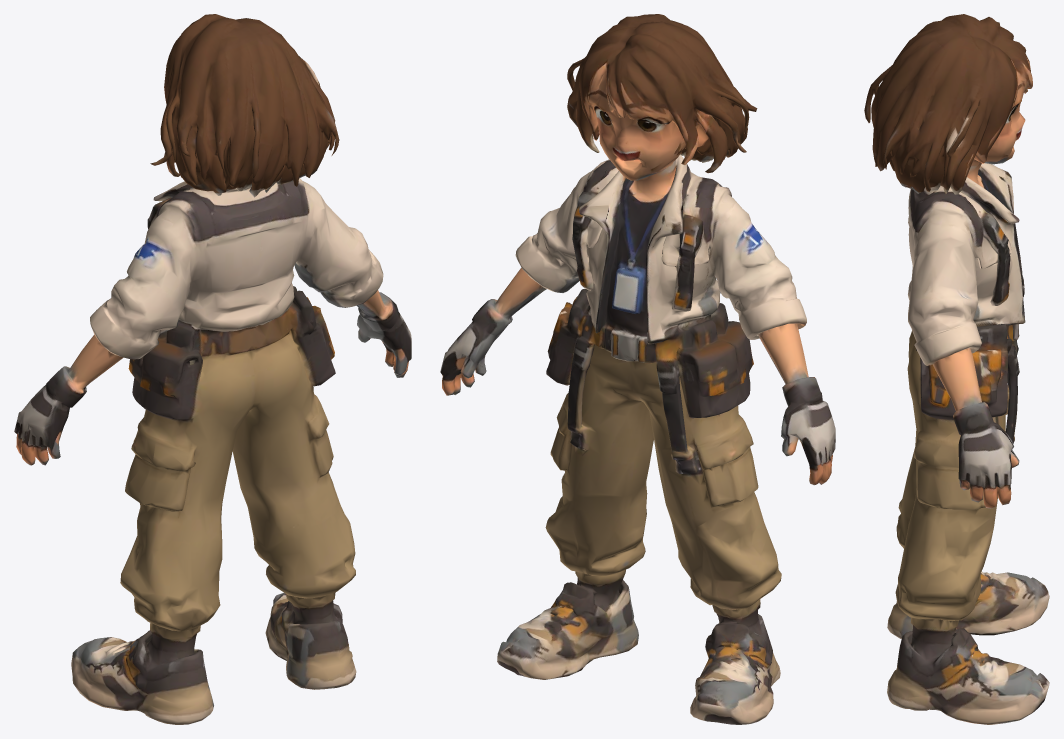
Rendered from sora.glb.
3 views of the same model, side by side, from view 1: azimuth 30°, elevation 25°; view 2: azimuth 150°, elevation 25°; view 3: azimuth 270°, elevation 25° (orthographic). The views are drawn at different scales.
Parts seen in each view (by area): view 1: tripo_node_eab66c1e-66bd-43b5-b95d-bab27fa7b91d; view 2: tripo_node_eab66c1e-66bd-43b5-b95d-bab27fa7b91d; view 3: tripo_node_eab66c1e-66bd-43b5-b95d-bab27fa7b91d.
Boxes of the visible parts, x1,y1,x2,y2 form: tripo_node_eab66c1e-66bd-43b5-b95d-bab27fa7b91d: (14,14,411,724); tripo_node_eab66c1e-66bd-43b5-b95d-bab27fa7b91d: (440,14,835,724); tripo_node_eab66c1e-66bd-43b5-b95d-bab27fa7b91d: (864,14,1049,724).
Size of the model in its own units: 0.9437 by 1.55 by 0.4021.
1 material, 1 textured.
